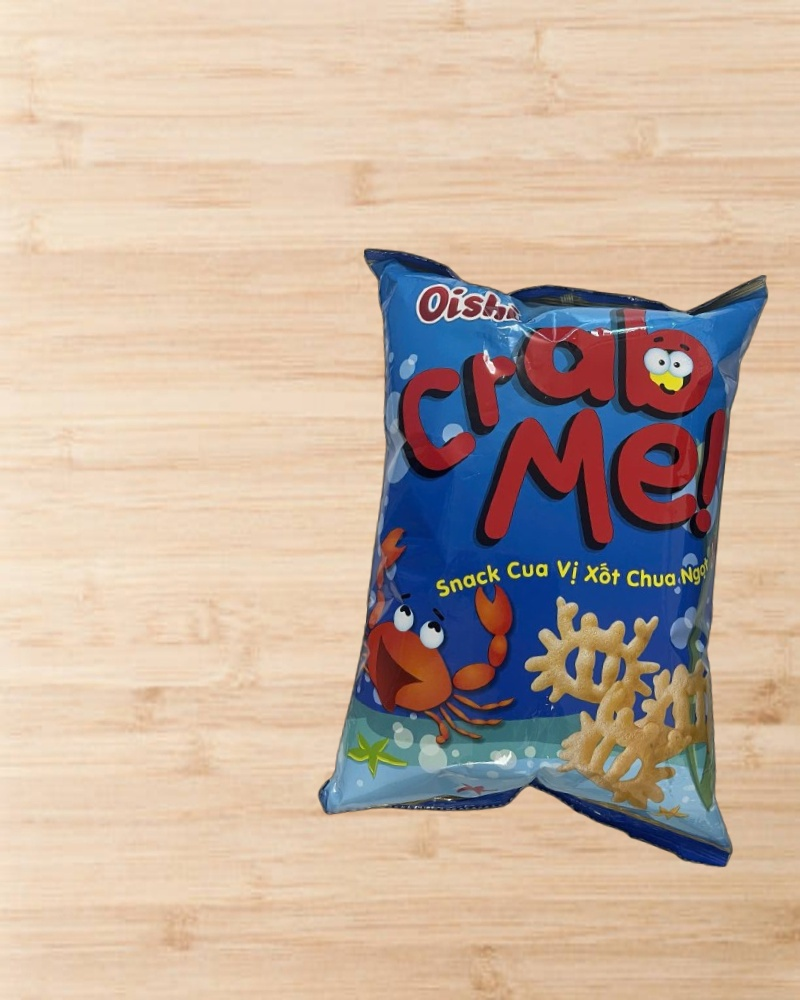Snack cua: (315, 241, 782, 862)
